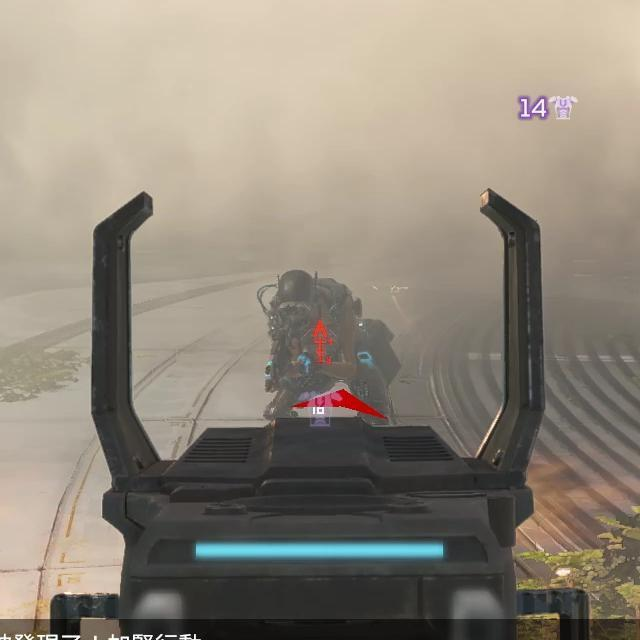avatar: (259, 266, 404, 422)
